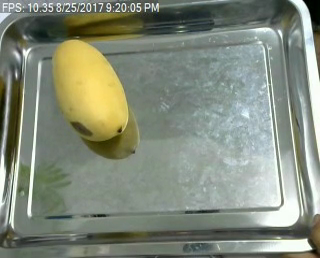Mango: (49, 41, 135, 144)
